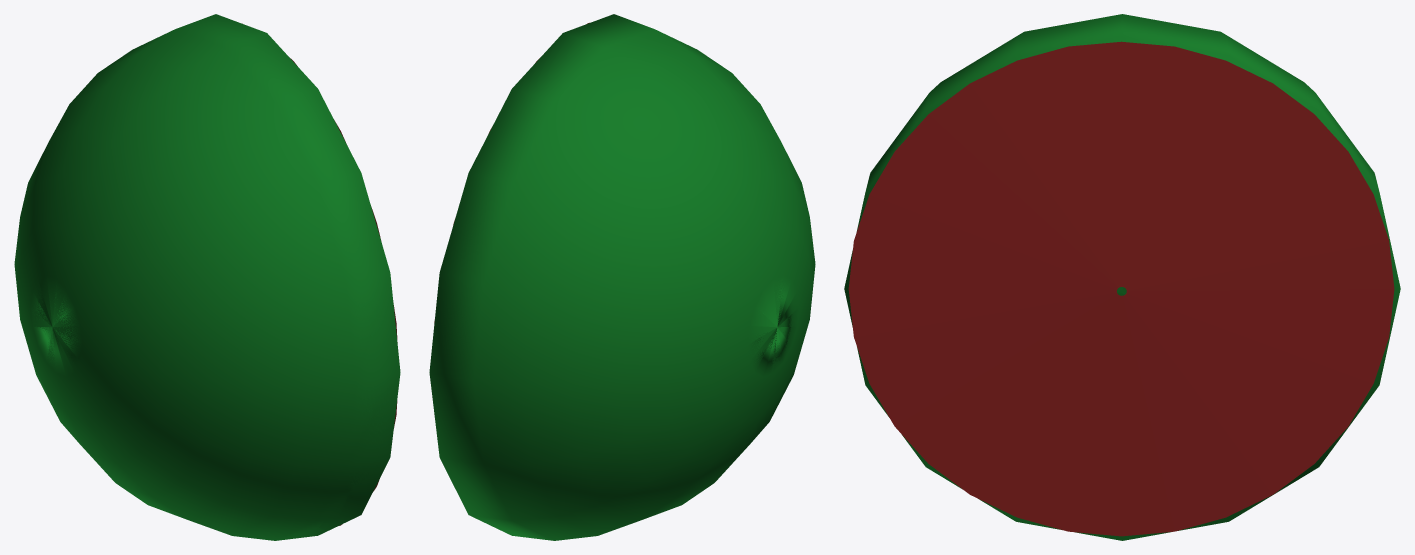
The model's file is HalfWatermelon.fbx.
3 renders of one model, left to right at view 1: azimuth 30°, elevation 25°; view 2: azimuth 150°, elevation 25°; view 3: azimuth 270°, elevation 25°, orthographic. The views are drawn at different scales.
Parts seen in each view (by area): view 1: Circle; view 2: Circle; view 3: Circle.001, Circle.
Part boxes in pixels (left/top/right/bottom): Circle: left=14, top=14, right=400, bottom=540; Circle: left=429, top=14, right=815, bottom=540; Circle.001: left=848, top=41, right=1394, bottom=536; Circle: left=844, top=14, right=1400, bottom=540.
Bounding box in the file's own units: 134 × 282 × 282.
